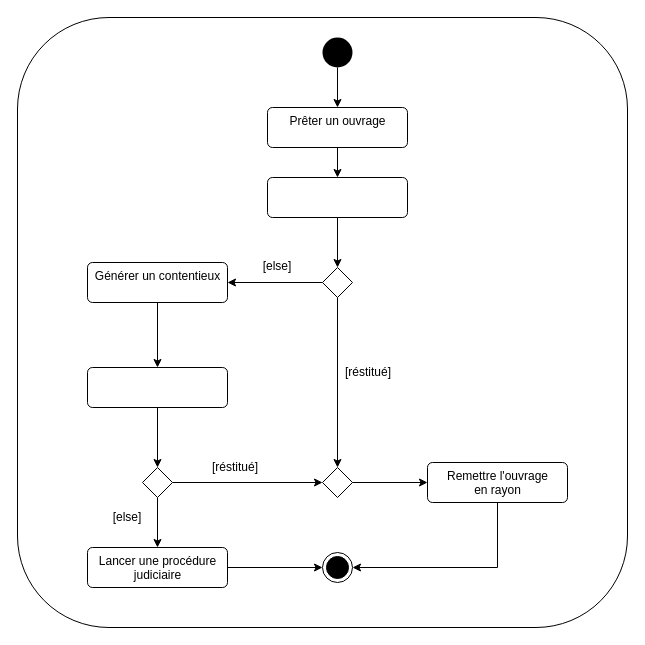
This 645x645 diagram has some shape labels left out. The shapes that lost their labels are listed below. From the top down, each one's centre as x and y in pixels, then its label:
At point 337,197: "Vérifier la restitution après trois semaines".
At point 157,387: "Vérifier la restitution après un an".
